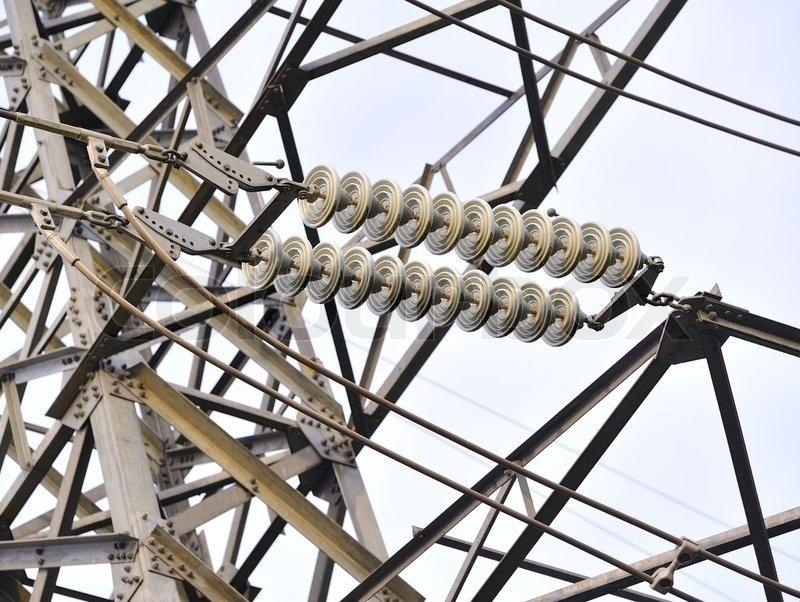power_tower: (3, 2, 792, 596)
